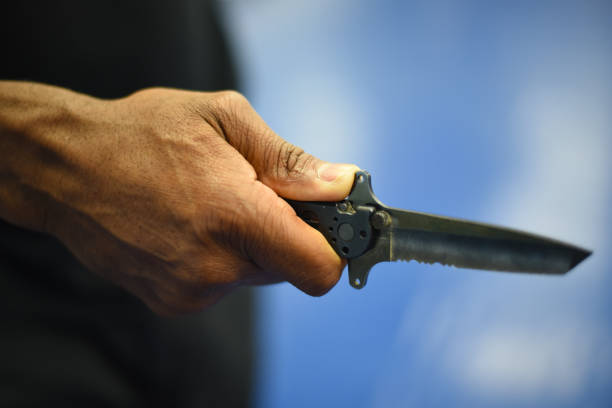knife: (273, 168, 596, 291)
